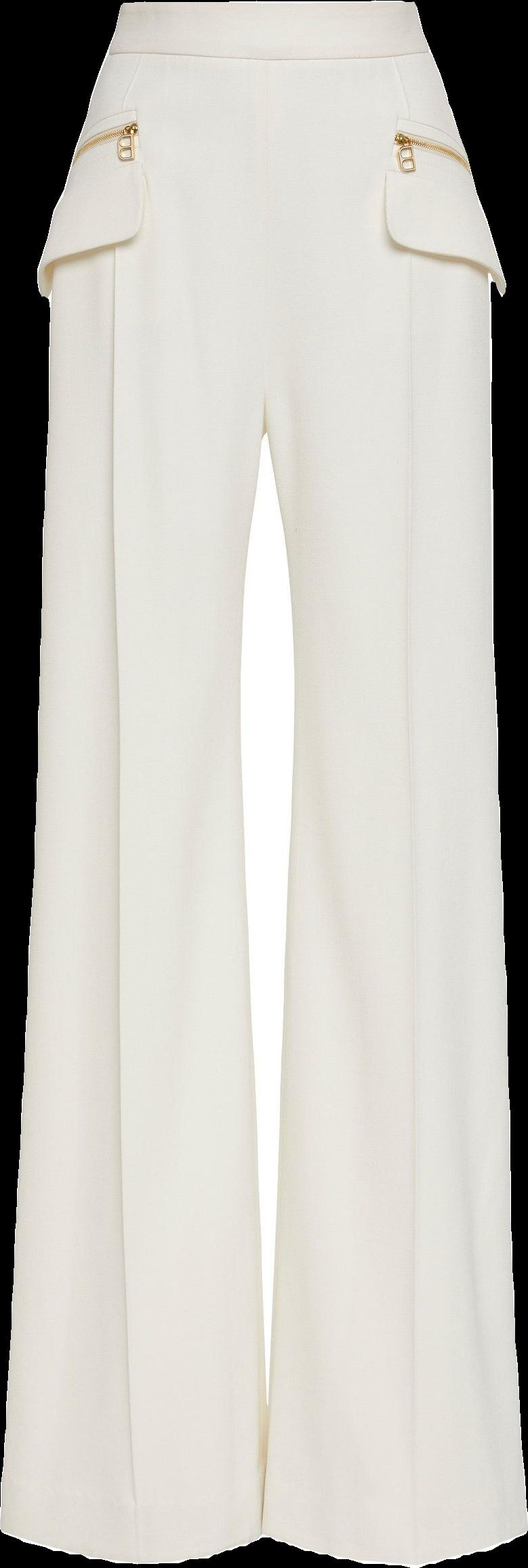Hemline: (0, 1512, 270, 1567), (257, 1518, 527, 1567)
Pantleg: (0, 1, 282, 1564), (264, 3, 527, 1565)
Waistline: (100, 37, 439, 71), (119, 0, 424, 18)
